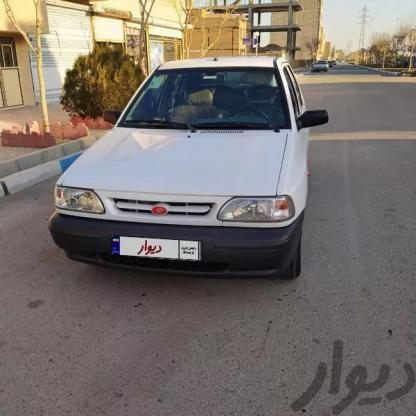Car: (40, 58, 334, 283), (304, 56, 344, 76)
